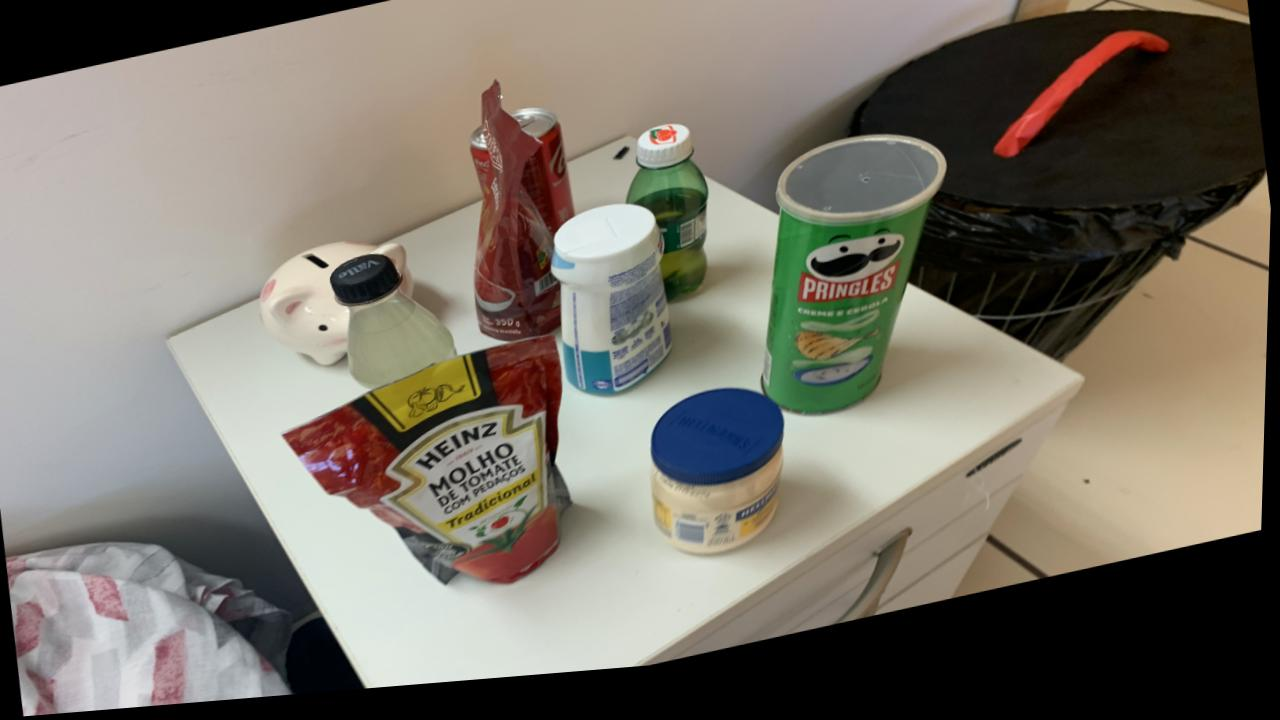Cleaner-Cleanup_Items: (553, 215, 674, 406)
Coke-Drinks: (512, 115, 577, 243), (470, 132, 495, 203)
Guarana-Drinks: (627, 134, 710, 311)
Mayonnaise-Pantry_Items: (653, 401, 787, 567)
Pig_Safe-Miscellaneous: (261, 247, 416, 371), (348, 297, 459, 395), (369, 289, 374, 295), (395, 335, 400, 339), (396, 346, 399, 350)
Pringles-Snacks: (764, 149, 949, 428)
Soda-Drinks: (332, 259, 459, 395)
Tomato_Sauce-Pantry_Items: (287, 345, 573, 592), (475, 88, 563, 350)
